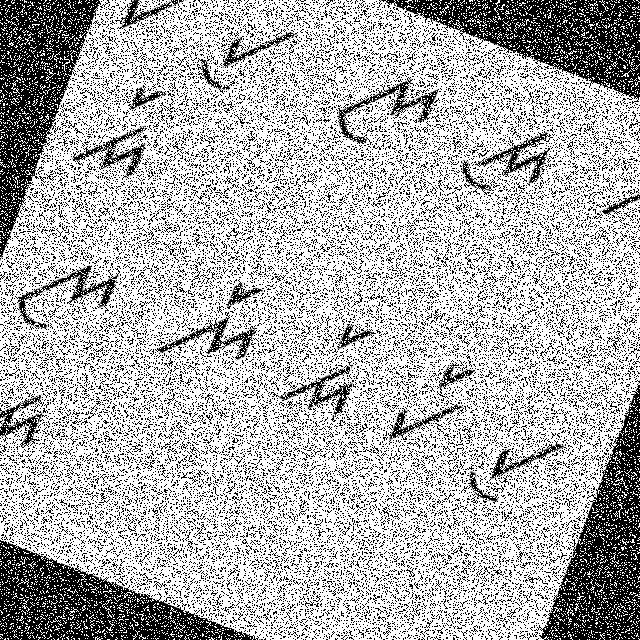dar: (60, 58, 183, 194), (270, 299, 390, 432)
daw: (439, 92, 564, 213), (0, 353, 61, 480)
nar: (145, 242, 286, 394), (578, 105, 639, 248)
naw: (310, 46, 450, 174), (4, 230, 132, 358)
par: (376, 332, 485, 462), (103, 0, 222, 55)
paw: (454, 391, 578, 524), (183, 0, 307, 113)
